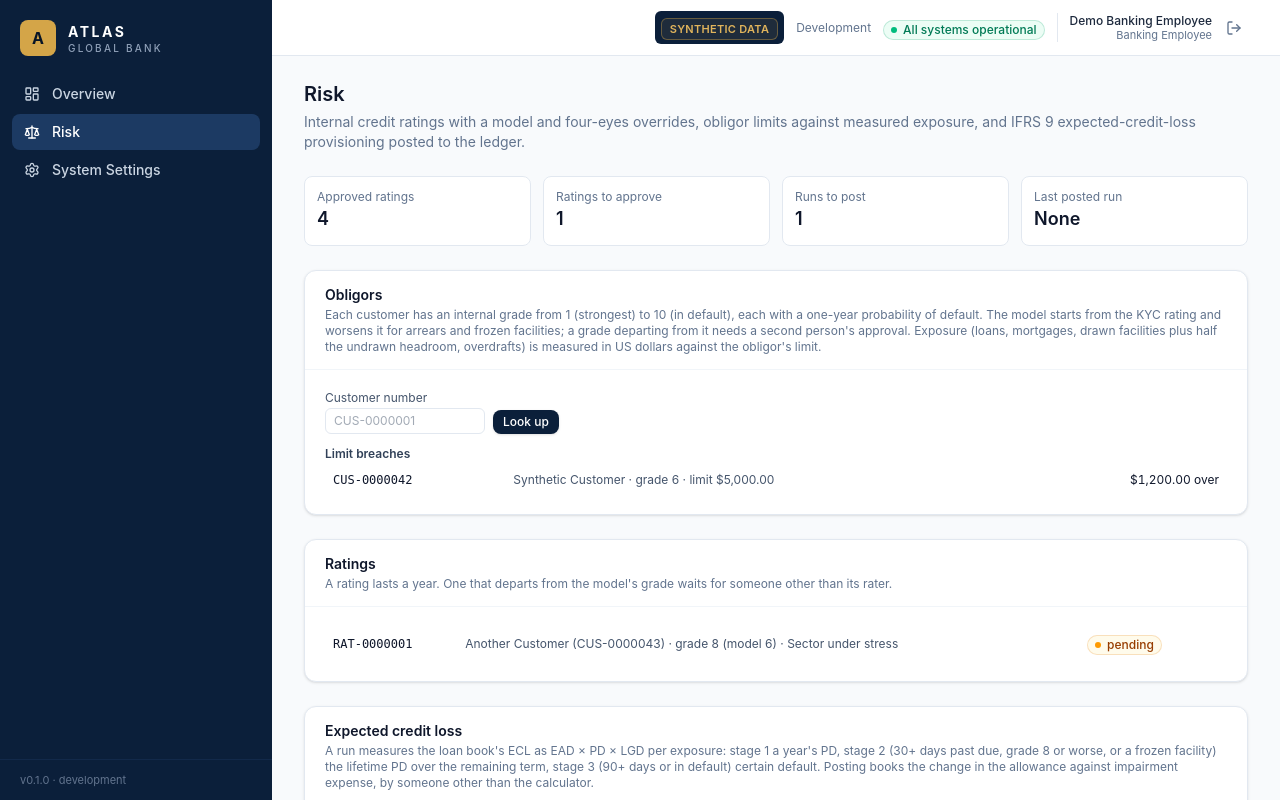
it: Risk page › is read-only with only risk:read
Expected: the text "RAT-0000001" is shown, [325, 627, 457, 661]
Type "CUS-0000042" into the field labelled "Customer number".
click(405, 421); type("CUS-0000042")  # box [325, 408, 485, 434]
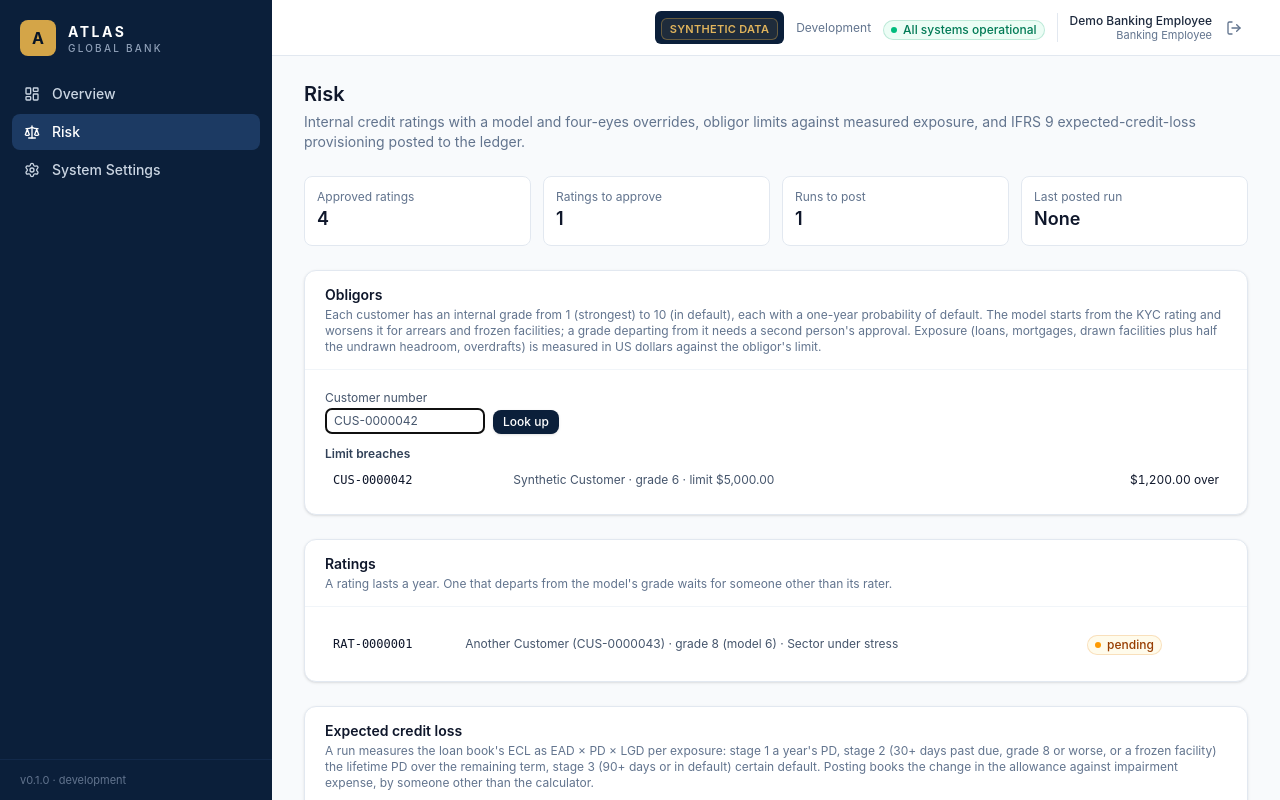
Click the button "Look up".
click(526, 422)  # box [493, 410, 559, 434]
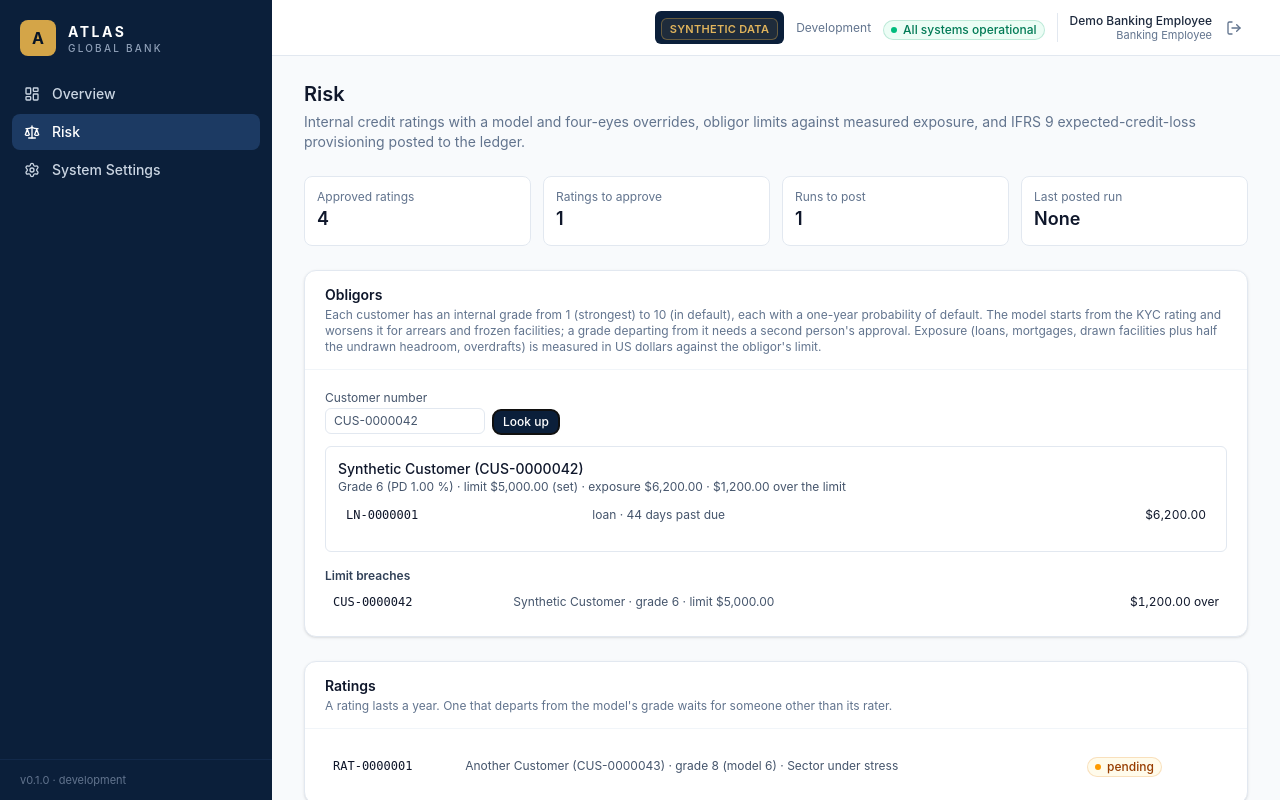
Result: the text named "Obligor grade" is shown at [338, 479, 846, 494]
